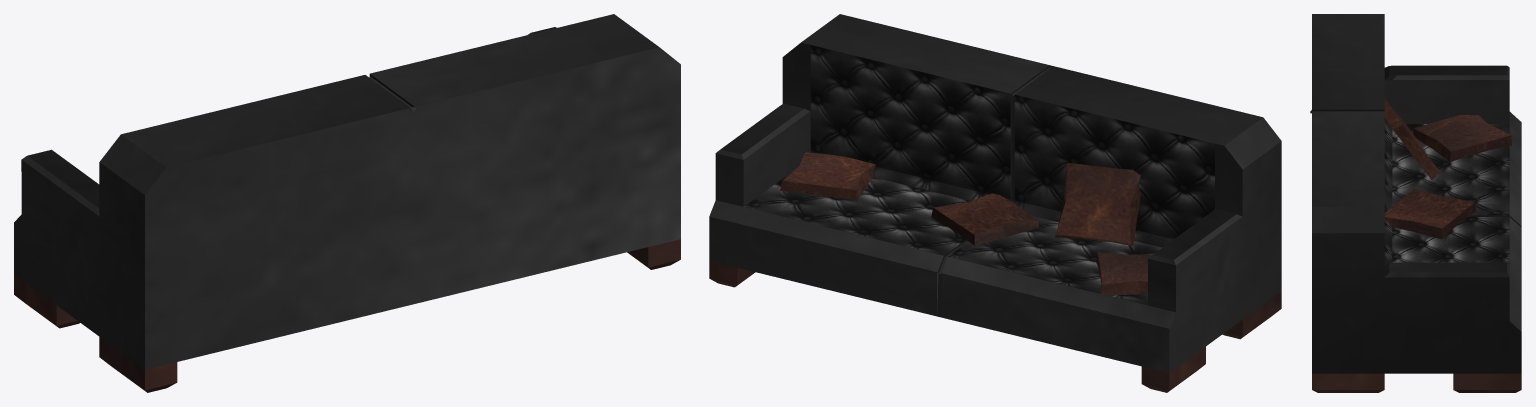
File: sofa.fbx
The picture shows the model from 3 angles, left to right: view 1: azimuth 30°, elevation 25°; view 2: azimuth 150°, elevation 25°; view 3: azimuth 270°, elevation 25°; orthographic projection. The views are drawn at different scales.
Visible parts, largest first — view 1: sofa; view 2: sofa; view 3: sofa.
Part boxes in pixels (x1=…): sofa: x1=14, y1=14, x2=680, y2=392; sofa: x1=709, y1=14, x2=1281, y2=392; sofa: x1=1310, y1=14, x2=1521, y2=392.
Bounding box in the file's own units: 417 × 167 × 178.
1 material, 1 textured.
